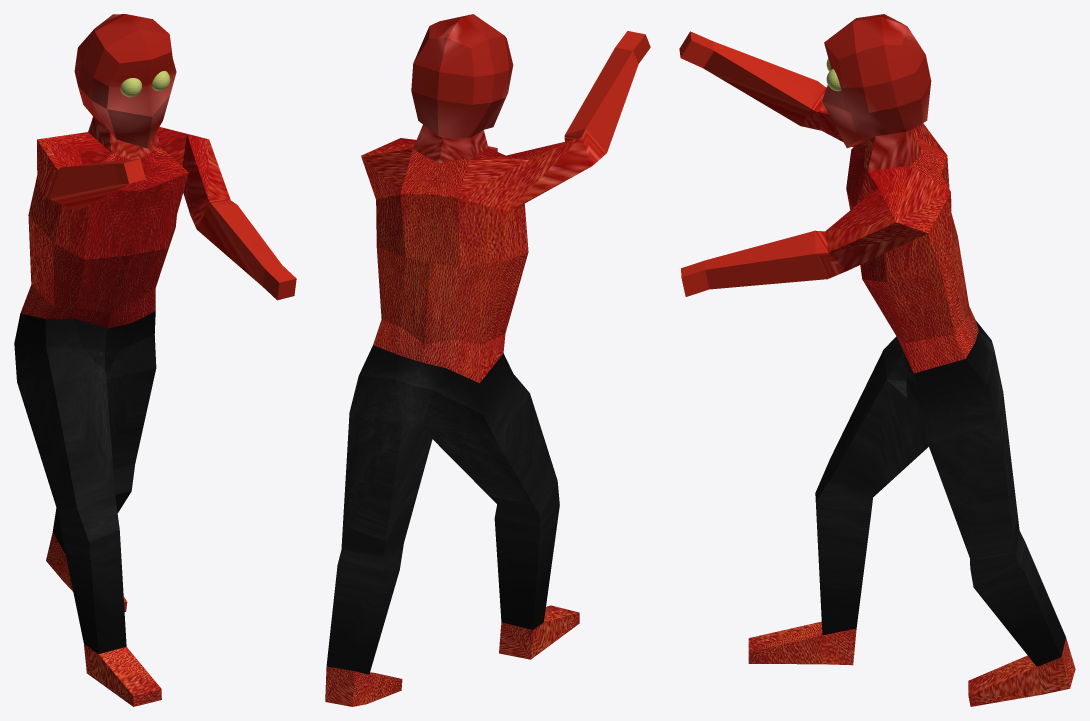
Rendered from laySheary_000038.obj.
The picture shows the model from 3 angles, left to right: view 1: azimuth 30°, elevation 25°; view 2: azimuth 150°, elevation 25°; view 3: azimuth 270°, elevation 25°; orthographic projection. The views are drawn at different scales.
Parts seen in each view (by area): view 1: Cube; view 2: Cube; view 3: Cube.
Part boxes in pixels (x1,y1,x2,y2): Cube: (14,14,296,706); Cube: (325,14,650,706); Cube: (679,14,1075,706).
Bounding box in the file's own units: 5.26 × 15.93 × 8.56.
Materials: 3 (2 with a texture image).
